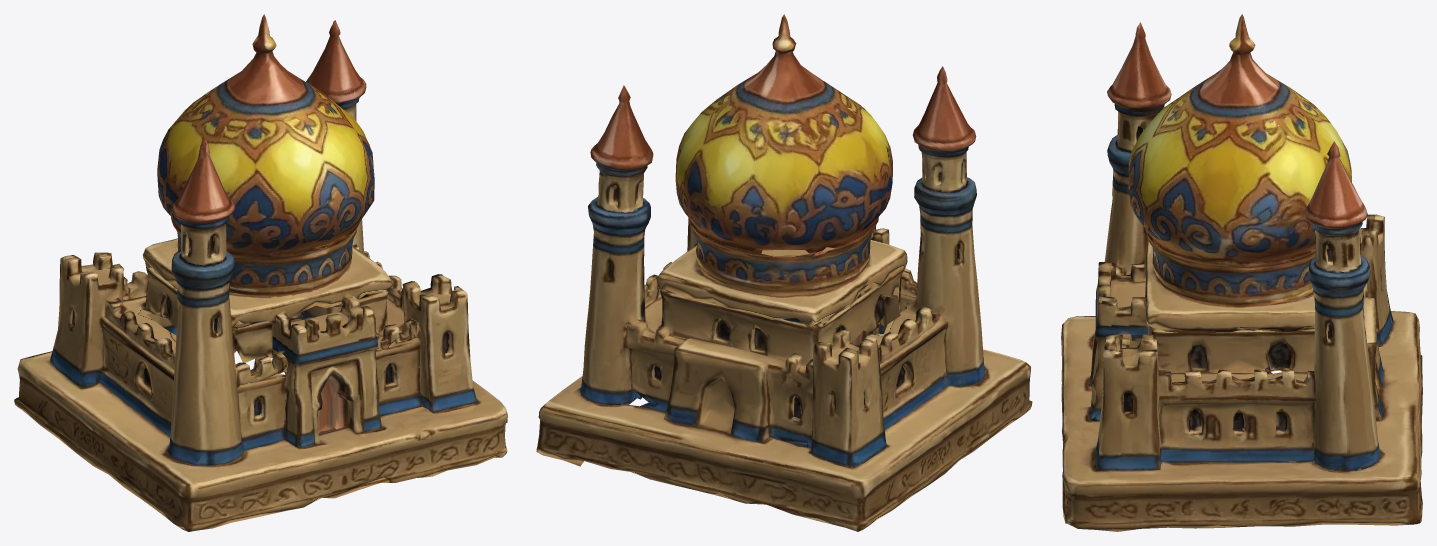
The model's file is palace.glb.
3 views of the same model, side by side, from view 1: azimuth 30°, elevation 25°; view 2: azimuth 150°, elevation 25°; view 3: azimuth 270°, elevation 25° (orthographic). The views are drawn at different scales.
Visible parts, largest first — view 1: geometry_0; view 2: geometry_0; view 3: geometry_0.
Boxes of the visible parts, left/top/right/bottom form: geometry_0: left=14, top=14, right=507, bottom=531; geometry_0: left=536, top=14, right=1032, bottom=531; geometry_0: left=1061, top=14, right=1422, bottom=531.
Bounding box in the file's own units: 0.625 × 0.7537 × 0.5691.
Materials: 1 (1 with a texture image).
